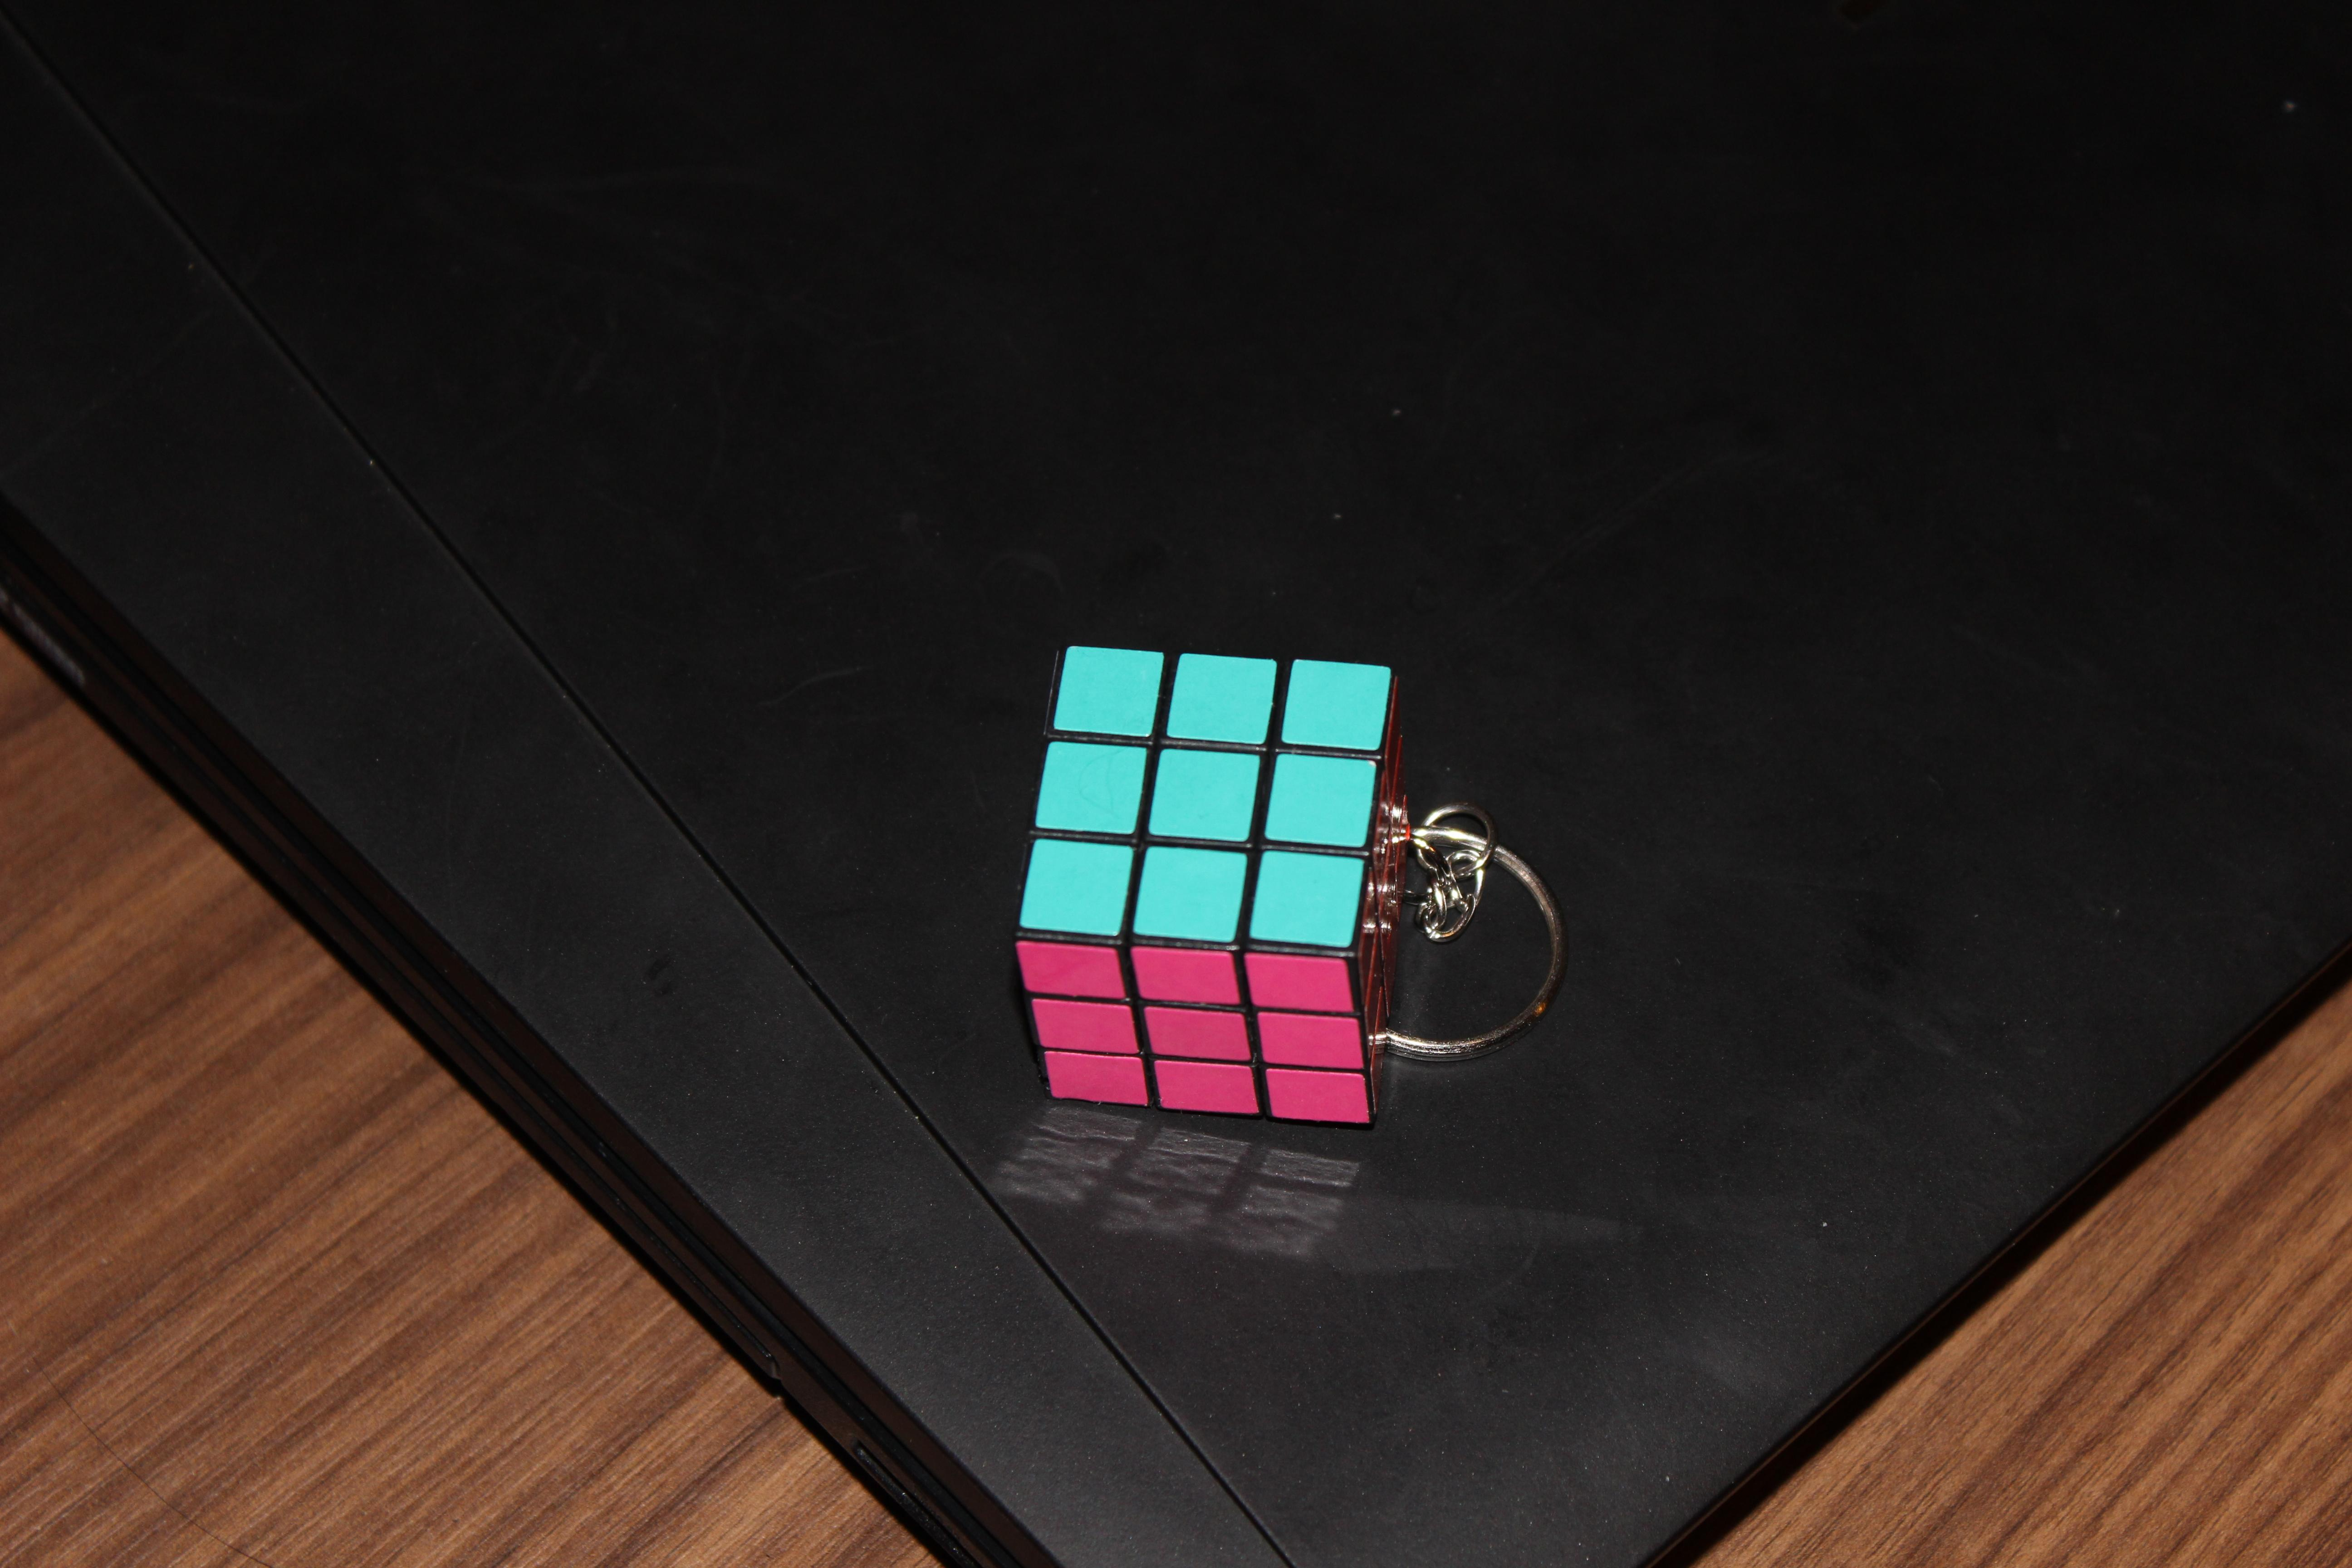rubiksCube: (984, 609, 1430, 1158)
